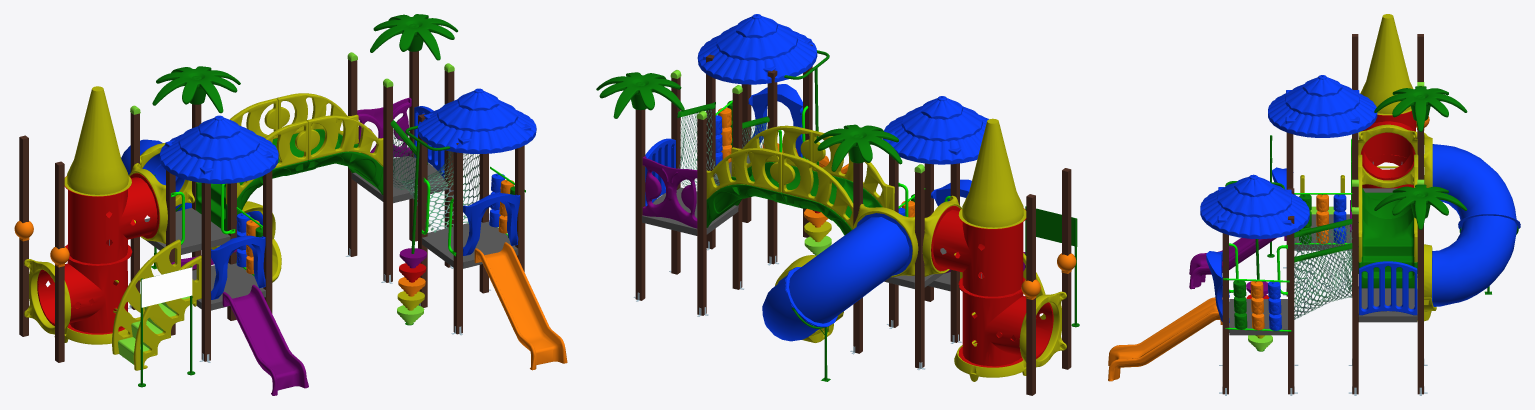
3 views of the same model, side by side, from view 1: azimuth 30°, elevation 25°; view 2: azimuth 150°, elevation 25°; view 3: azimuth 270°, elevation 25° (orthographic). The views are drawn at different scales.
Visible parts, largest first — view 1: object 20, object 8, object 11, TOLDO M2, TOLDO M2.002, object 15, LATERAL M1.003, COQUEIRO M1.001, LATERAL M2.001, COQUEIRO M1, LATERAL M2, COLUNA MAD PLAST 9 X 9CM.009 (+25 smaller); view 2: object 20, object 8, TOLDO M2.002, TOLDO M2, LATERAL M1.001, LATERAL M1, COQUEIRO M1.001, COQUEIRO M1, COLUNA MAD PLAST 9 X 9CM.008, COLUNA MAD PLAST 9 X 9CM.010, object 15, object 11 (+19 smaller); view 3: object 8, object 20, TOLDO M2.002, TOLDO M2, object 11, object 15, JOGO DA VELHA, COQUEIRO M1.001, COQUEIRO M1, JOGO DA VELHA.001, PLATAFORMA M1.001, COLUNA MAD PLAST 9 X 9CM.011 (+9 smaller).
Part boxes in pixels (<box>): object 20: <box>24,86,281,344</box>; object 8: <box>121,97,520,395</box>; object 11: <box>397,125,567,370</box>; TOLDO M2: <box>159,115,278,183</box>; TOLDO M2.002: <box>417,88,536,153</box>; object 15: <box>390,104,479,232</box>; LATERAL M1.003: <box>306,115,383,166</box>; COQUEIRO M1.001: <box>152,66,240,113</box>; LATERAL M2.001: <box>133,255,201,370</box>; COQUEIRO M1: <box>370,14,457,60</box>; LATERAL M2: <box>112,239,180,354</box>; COLUNA MAD PLAST 9 X 9CM.009: <box>383,85,392,282</box>; object 20: <box>775,118,1066,381</box>; object 8: <box>642,84,1025,341</box>; TOLDO M2.002: <box>697,14,817,84</box>; TOLDO M2: <box>883,96,988,164</box>; LATERAL M1.001: <box>706,148,783,198</box>; LATERAL M1: <box>782,153,853,229</box>; COQUEIRO M1.001: <box>814,124,902,171</box>; COQUEIRO M1: <box>596,72,684,118</box>; COLUNA MAD PLAST 9 X 9CM.008: <box>635,109,645,300</box>; COLUNA MAD PLAST 9 X 9CM.010: <box>697,118,706,315</box>; object 15: <box>677,102,769,191</box>; object 11: <box>762,50,848,255</box>; object 8: <box>1189,144,1520,322</box>; object 20: <box>1358,14,1436,321</box>; TOLDO M2.002: <box>1200,174,1309,239</box>; TOLDO M2: <box>1268,75,1377,137</box>; object 11: <box>1108,181,1287,381</box>; object 15: <box>1294,218,1358,319</box>; JOGO DA VELHA: <box>1223,278,1291,331</box>; COQUEIRO M1.001: <box>1374,86,1467,131</box>; COQUEIRO M1: <box>1374,184,1467,229</box>; JOGO DA VELHA.001: <box>1294,193,1352,244</box>; PLATAFORMA M1.001: <box>1358,286,1417,322</box>; COLUNA MAD PLAST 9 X 9CM.011: <box>1352,214,1358,394</box>.
Size of the model in its own units: 6.56 by 3.5 by 5.75.
Materials: 45 (1 with a texture image).
